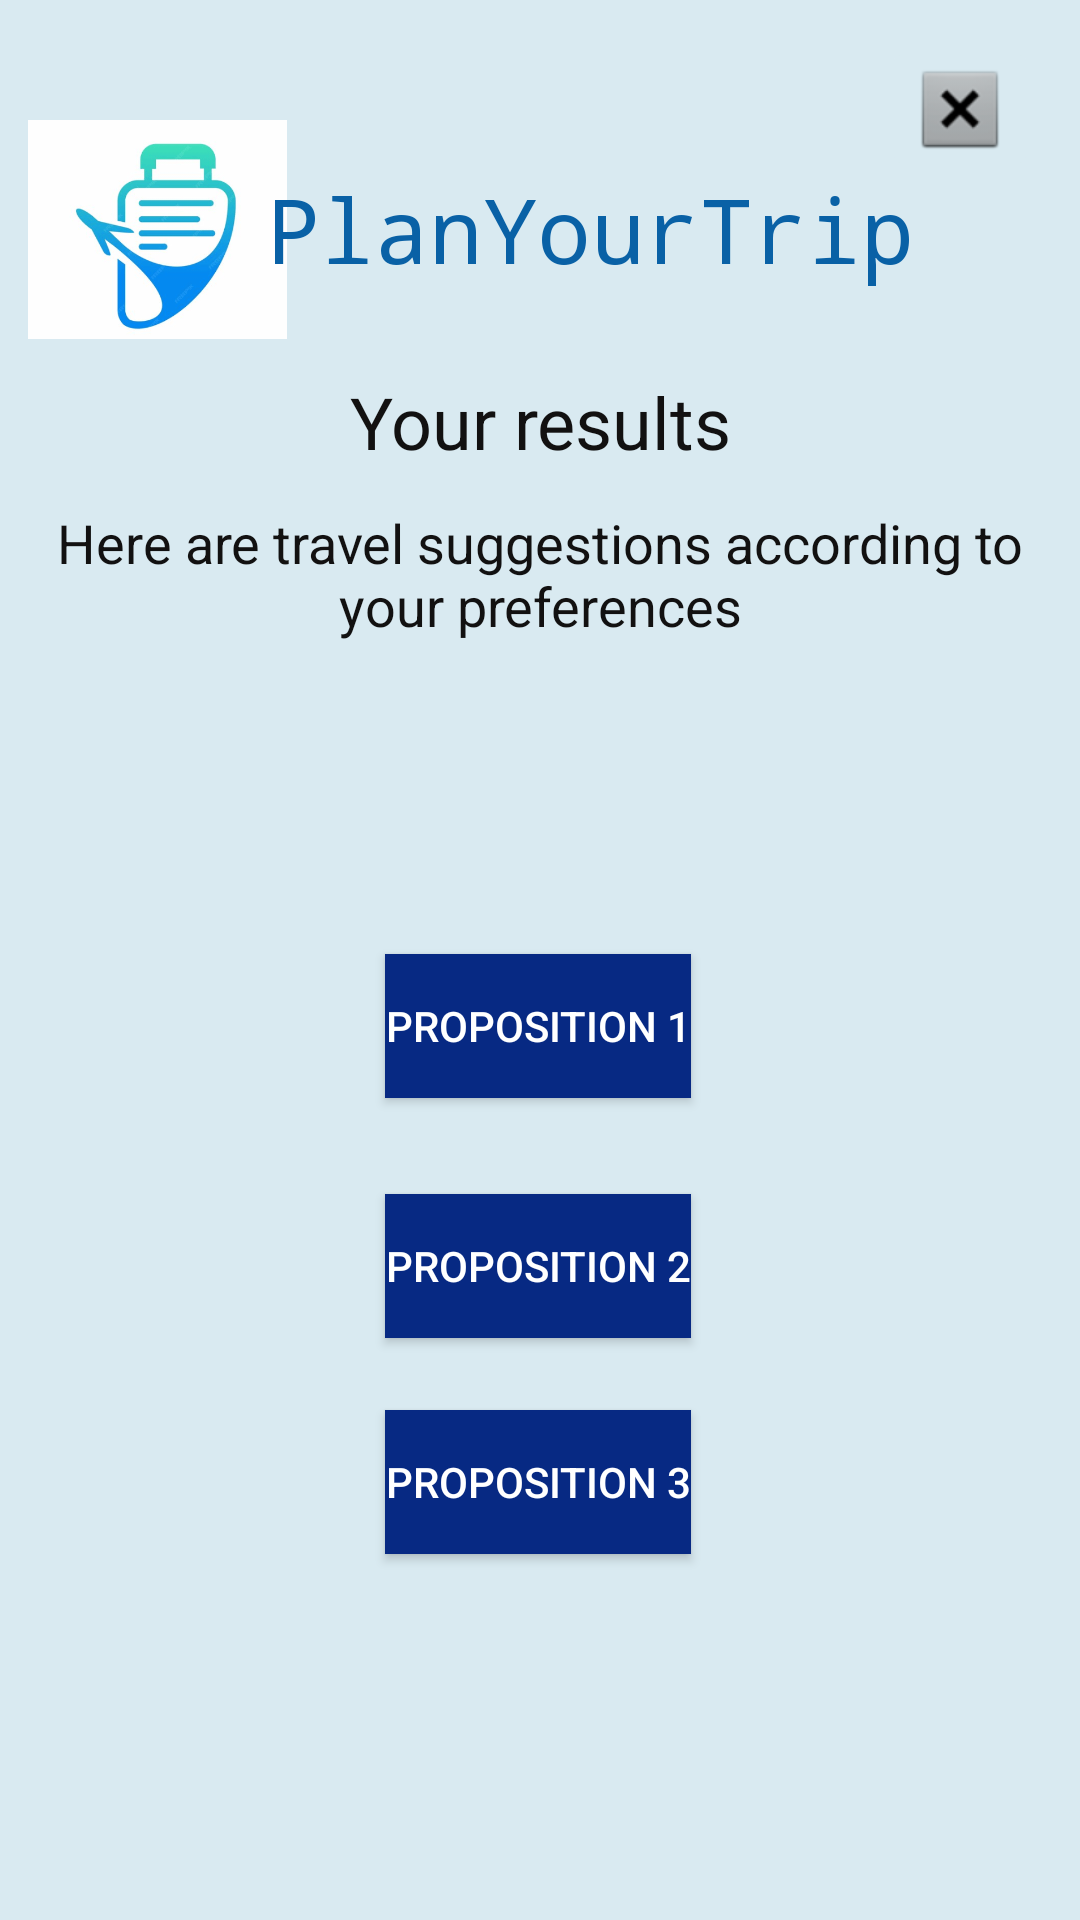

Icon click points for this 1080 × 1920 phone screenshot, format (x=x, y=y):
X Quit: (x=960, y=109)
